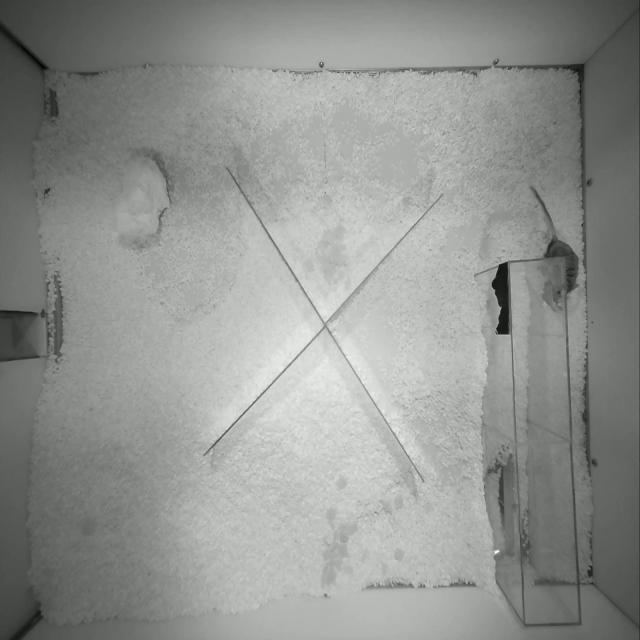adult_back: (530, 186, 579, 302)
